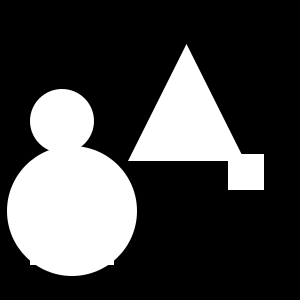circle: (30, 181, 114, 265), (228, 154, 264, 190)
rectangle: (7, 146, 137, 276), (30, 89, 94, 153)
triangle: (128, 44, 245, 161)
